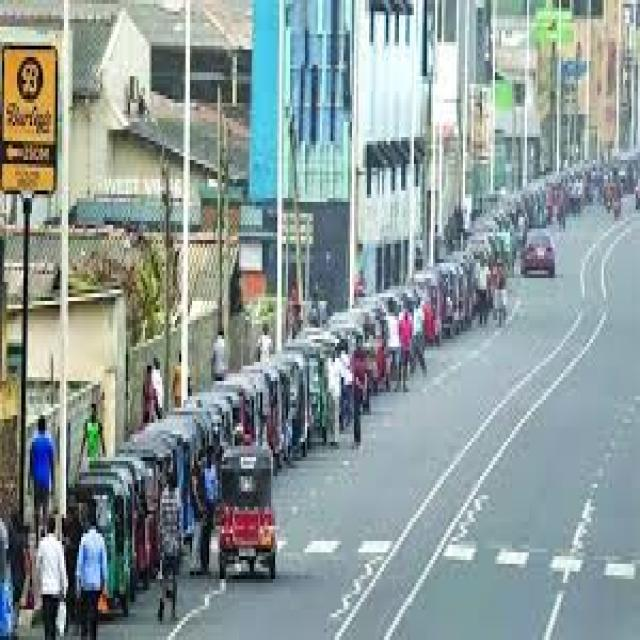car: (521, 232, 553, 278)
person: (36, 518, 66, 640), (77, 518, 105, 640), (158, 488, 179, 621), (30, 419, 51, 541), (201, 450, 215, 571), (81, 404, 102, 461), (353, 347, 365, 446), (190, 469, 201, 571), (143, 366, 160, 423), (412, 305, 425, 377), (329, 354, 339, 446), (399, 309, 410, 392), (493, 267, 506, 328), (211, 331, 226, 381), (151, 362, 162, 411), (258, 328, 271, 362), (480, 259, 486, 328)
three wheeler: (75, 469, 132, 617), (220, 446, 273, 579), (111, 457, 149, 590), (299, 331, 331, 446), (279, 350, 307, 457), (262, 366, 290, 469), (277, 366, 290, 469)
